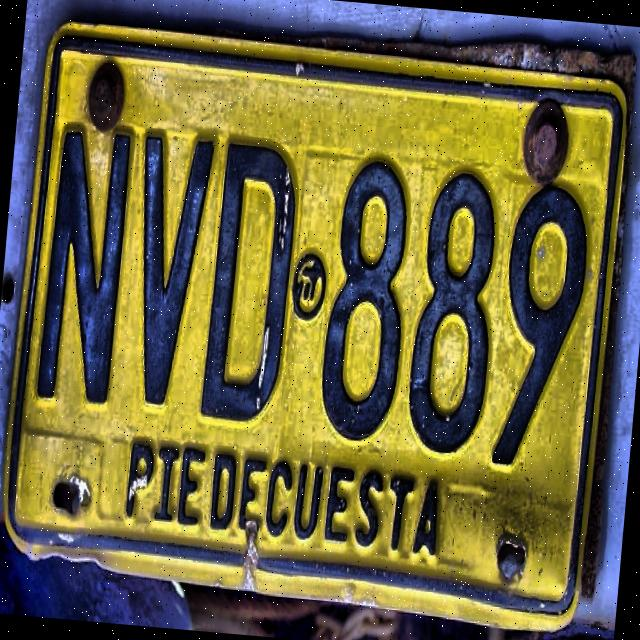plate: (10, 34, 624, 608)
